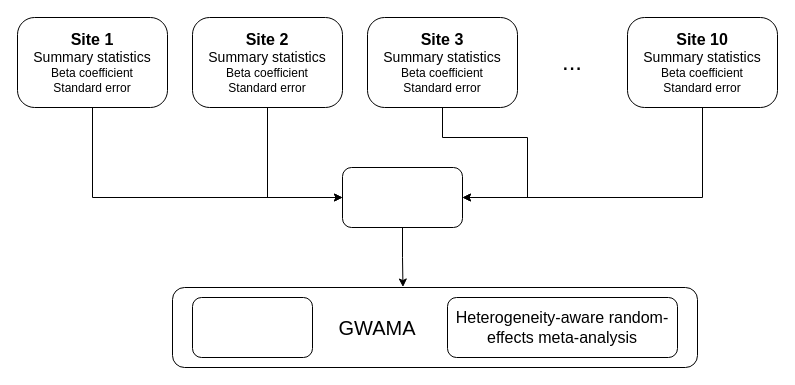
Some shapes in this 795 by 385 pixel diagram are drawn without their labels. Each missing label, with the box of its shape:
Compatibility block: (342, 166, 462, 228)
Estimate heterogeneity Q: (192, 296, 312, 358)
